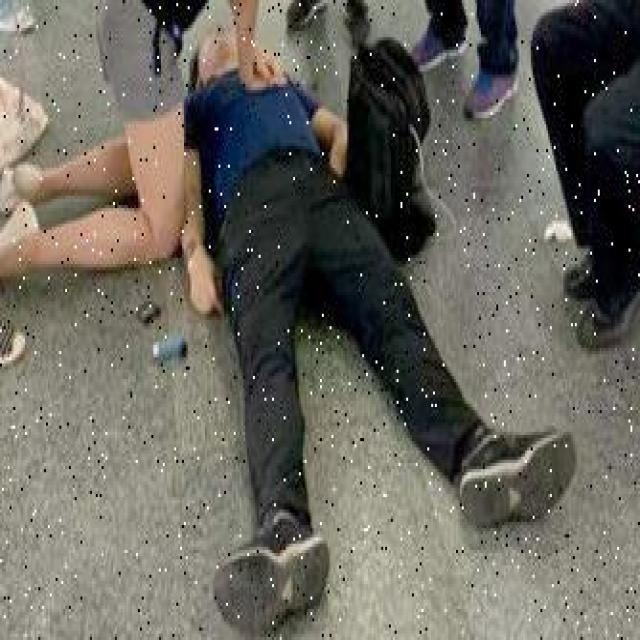fall: (192, 28, 462, 565)
